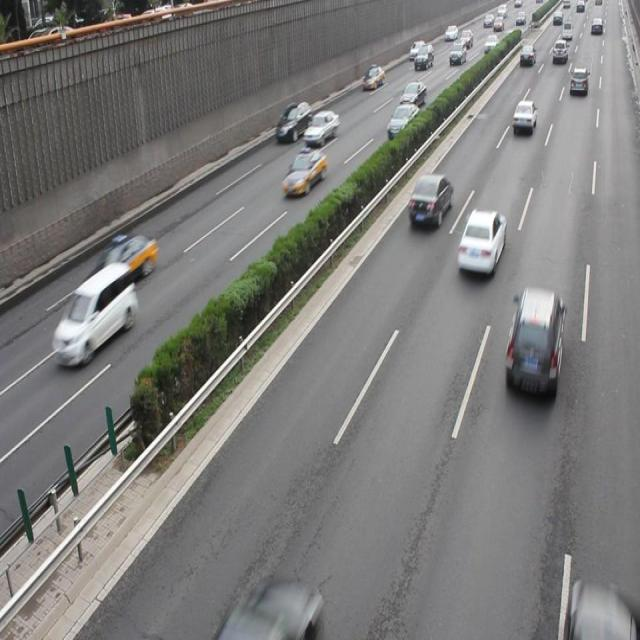car: (502, 285, 563, 396), (230, 578, 319, 640), (565, 583, 630, 640), (92, 234, 157, 287), (456, 207, 506, 275), (407, 172, 452, 226), (281, 148, 327, 198), (275, 99, 311, 143), (386, 104, 419, 143), (303, 109, 338, 145), (511, 100, 536, 135), (398, 80, 425, 110)
truck: (52, 261, 137, 365)
